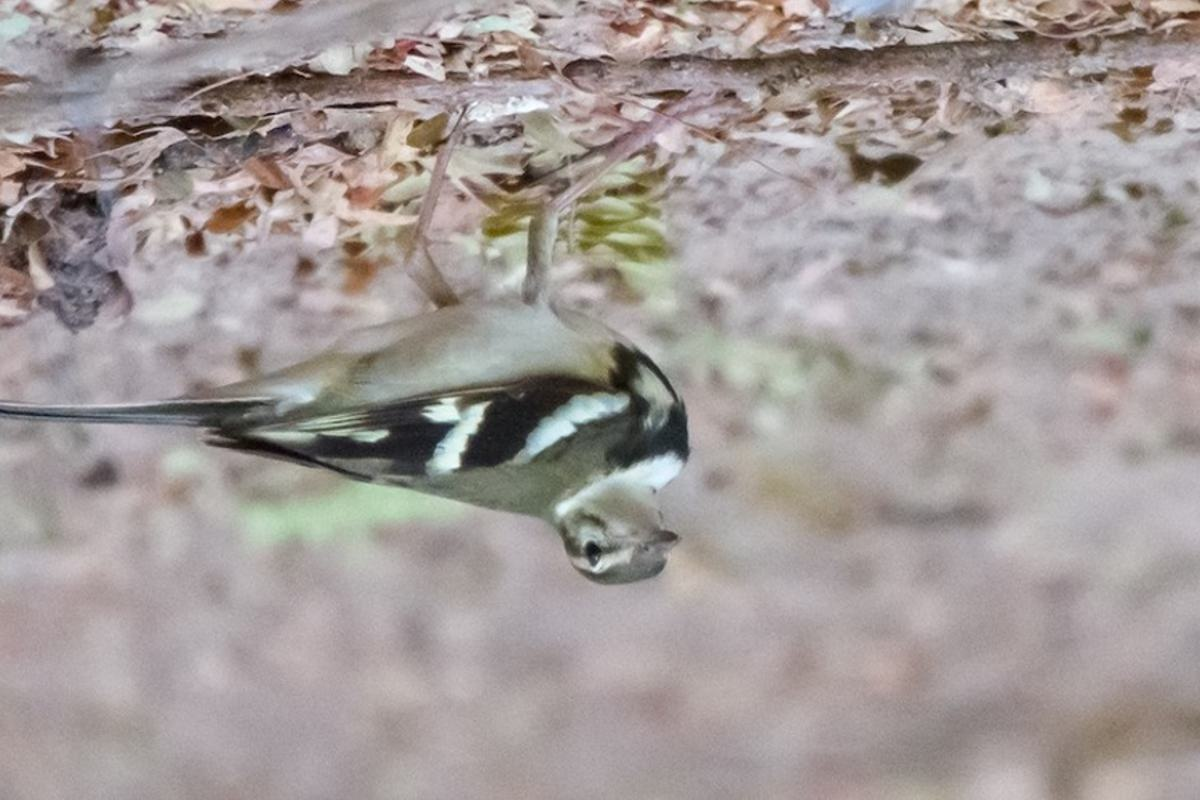wagtail: (133, 250, 696, 588)
